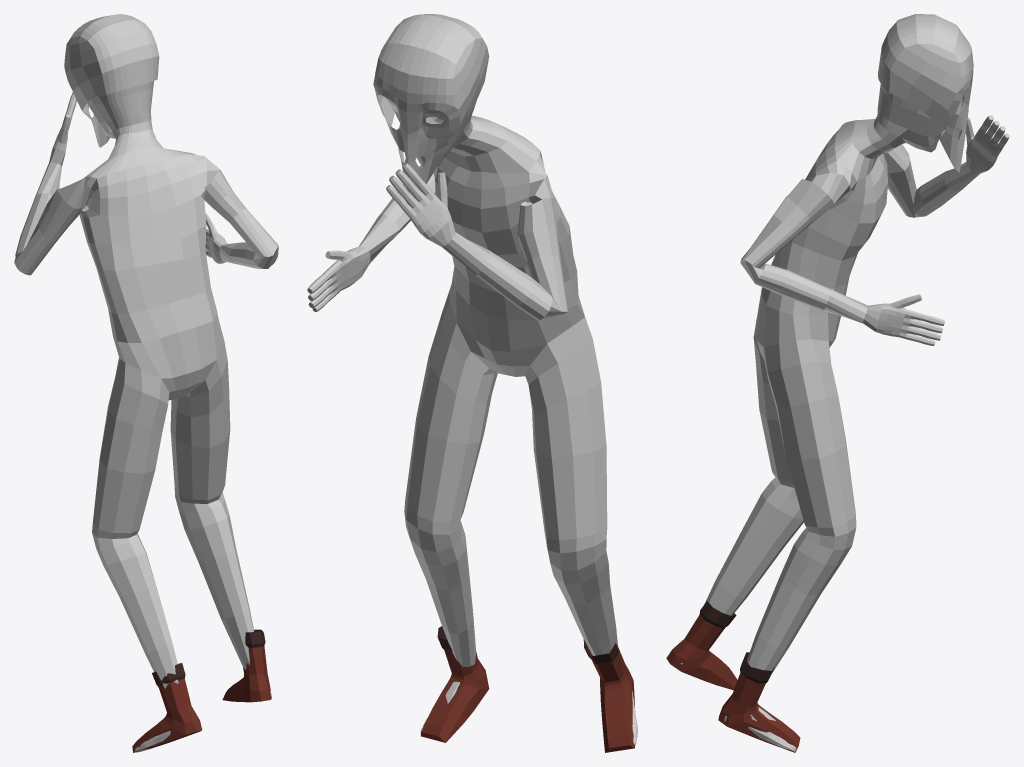
File: correr_000165.obj
The picture shows the model from 3 angles, left to right: view 1: azimuth 30°, elevation 25°; view 2: azimuth 150°, elevation 25°; view 3: azimuth 270°, elevation 25°; orthographic projection. The views are drawn at different scales.
Parts seen in each view (by area): view 1: Plane.002_Plane.001, Plane.004, Plane.003; view 2: Plane.002_Plane.001, Plane.004, Plane.003; view 3: Plane.002_Plane.001, Plane.004, Plane.003.
Part boxes in pixels (box(x1,y1,x2,y2)): Plane.002_Plane.001: box(14, 14, 278, 752); Plane.004: box(132, 663, 202, 752); Plane.003: box(222, 629, 271, 702); Plane.002_Plane.001: box(307, 14, 637, 746); Plane.004: box(583, 639, 634, 752); Plane.003: box(421, 626, 489, 742); Plane.002_Plane.001: box(680, 14, 1009, 751); Plane.004: box(666, 601, 737, 690); Plane.003: box(718, 652, 800, 752).
Size of the model in its own units: 2.16 by 6.78 by 3.02.
